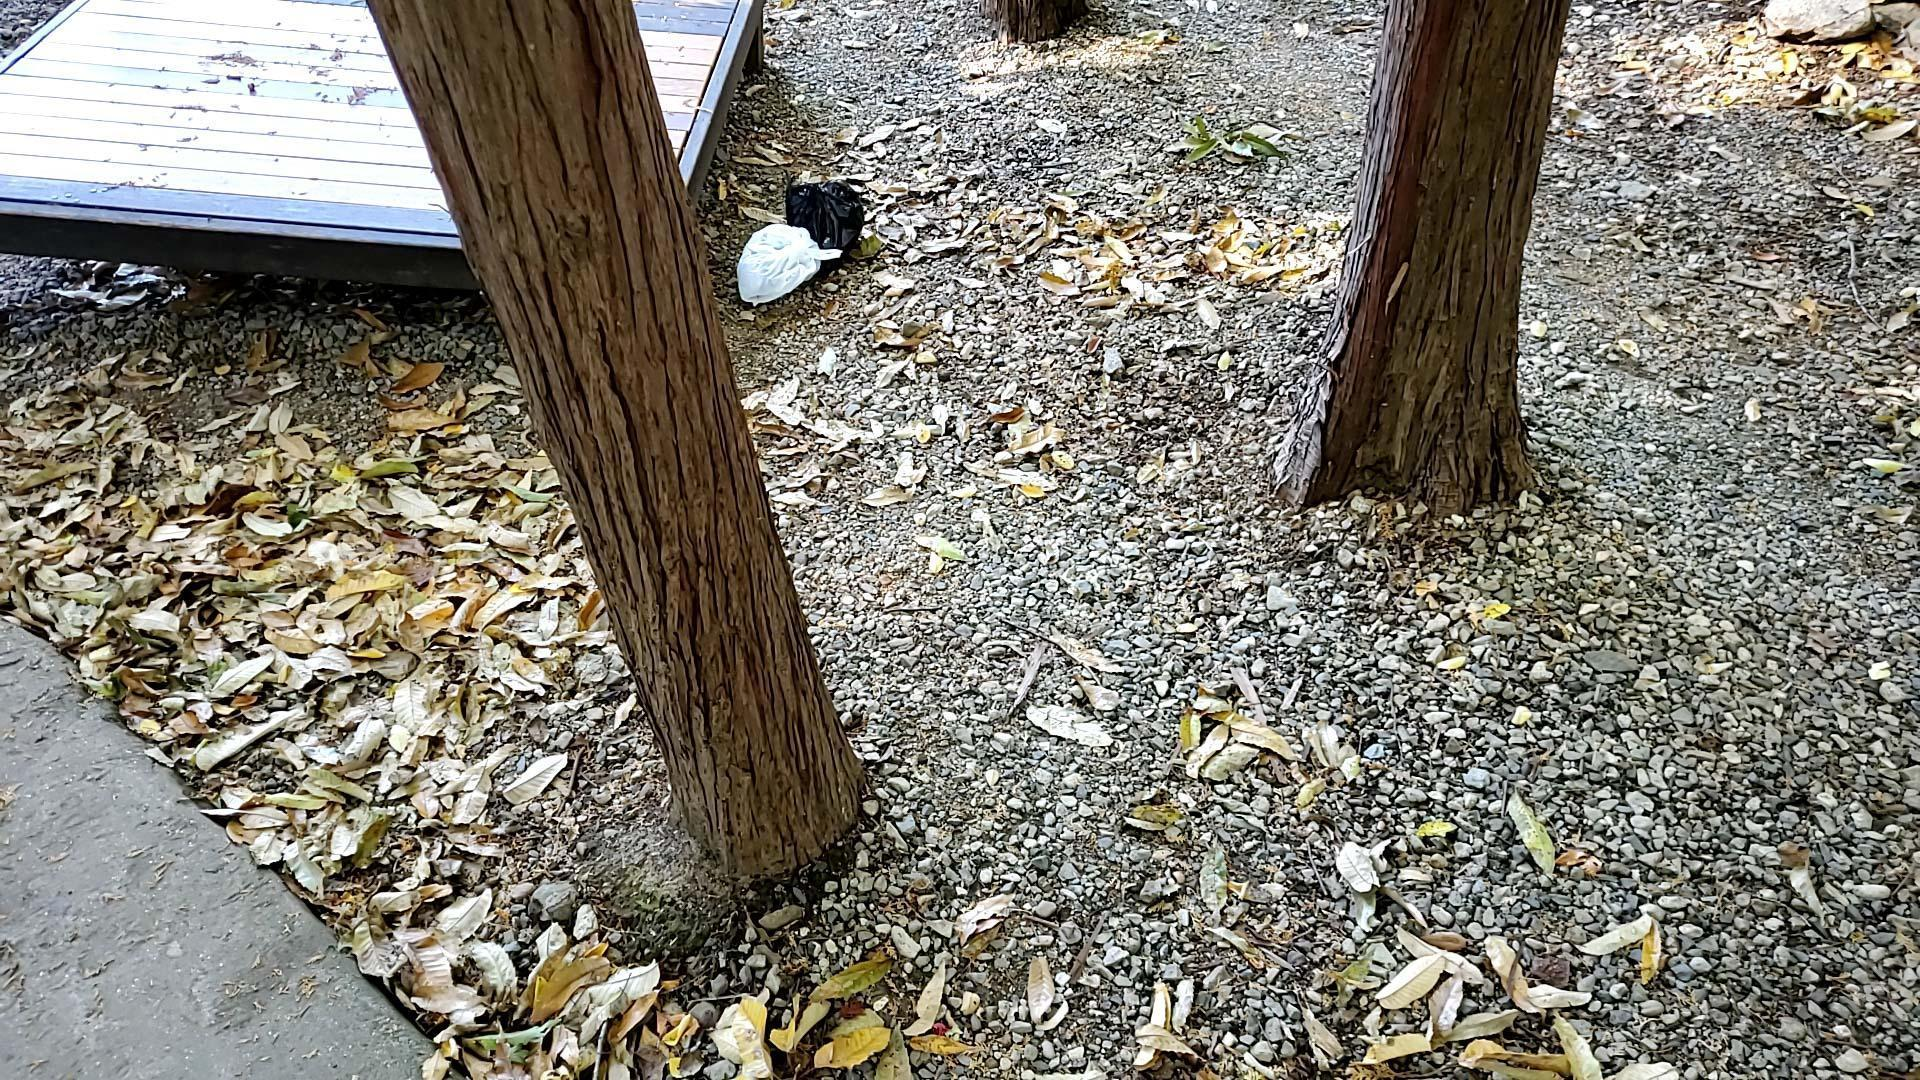black_bag: (785, 173, 866, 258)
white_bag: (732, 223, 841, 305)
